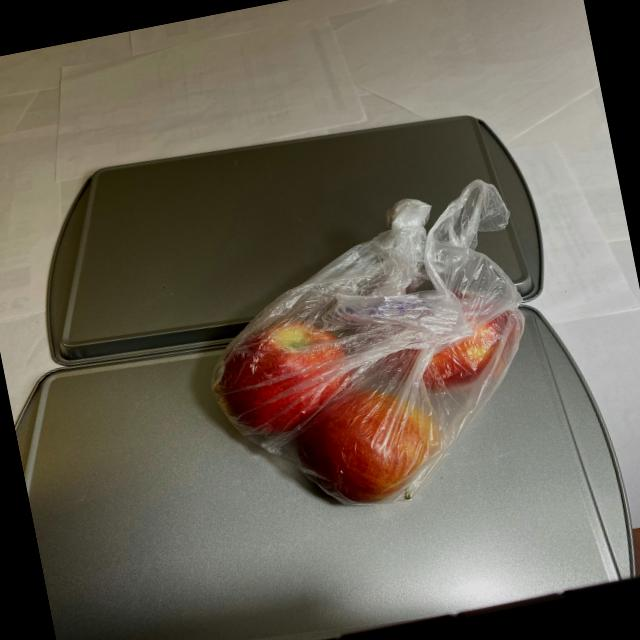apple: (193, 274, 556, 538)
